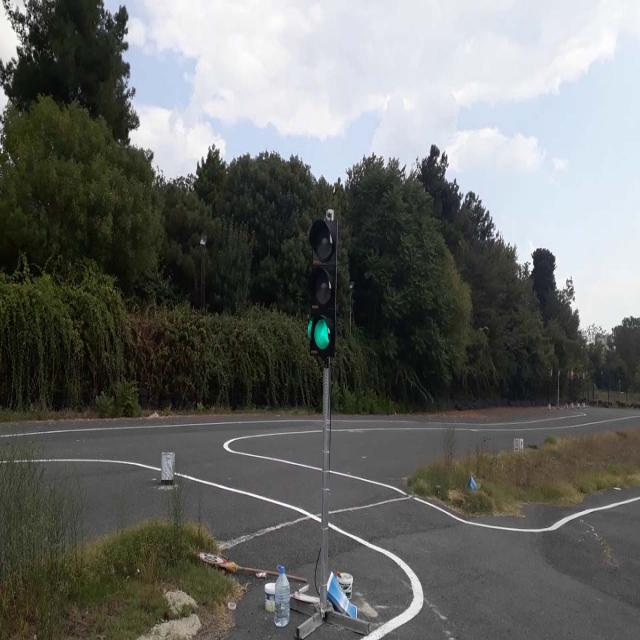yesil: (310, 220, 336, 359)
